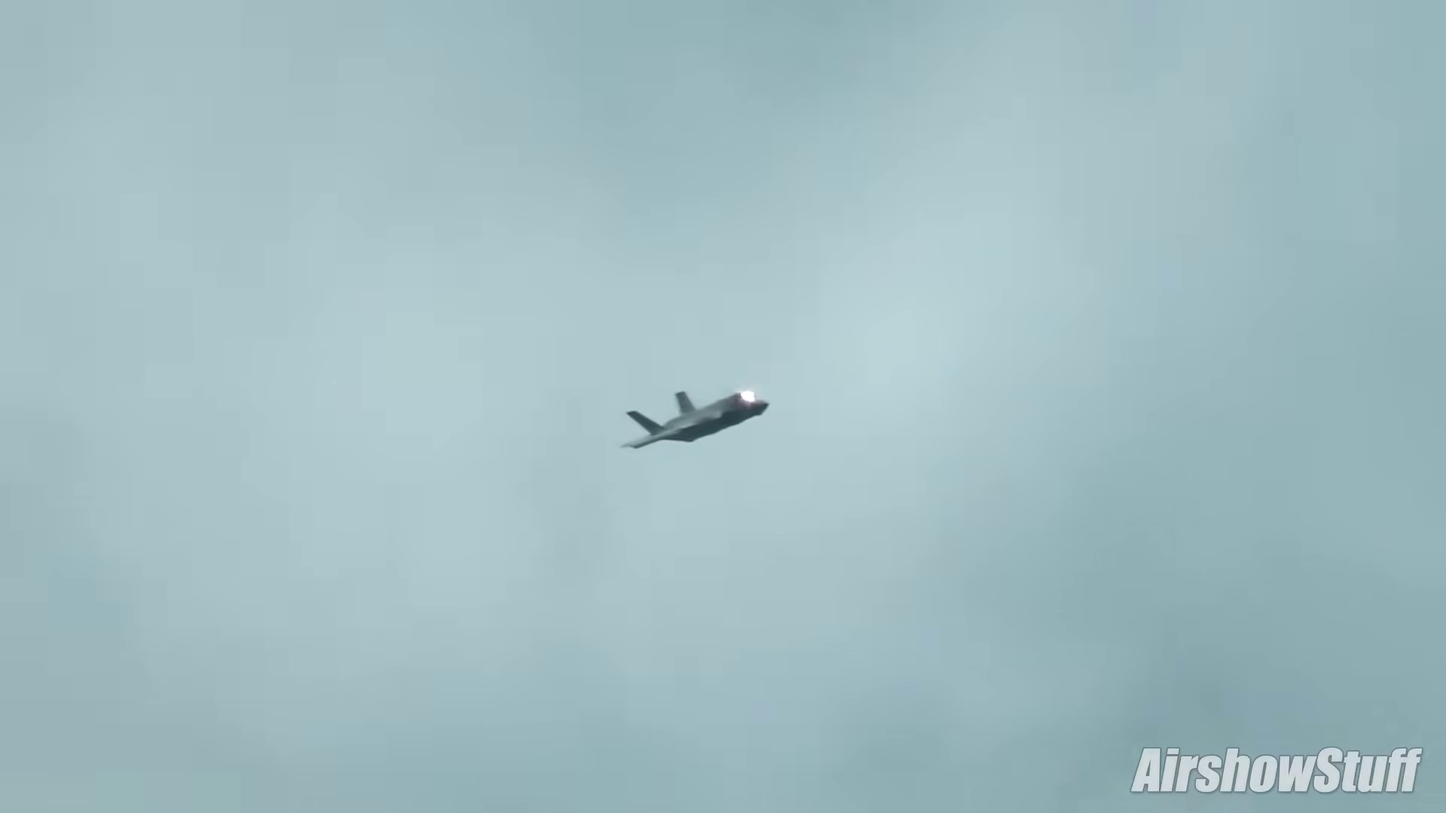F35: (621, 384, 772, 452)
